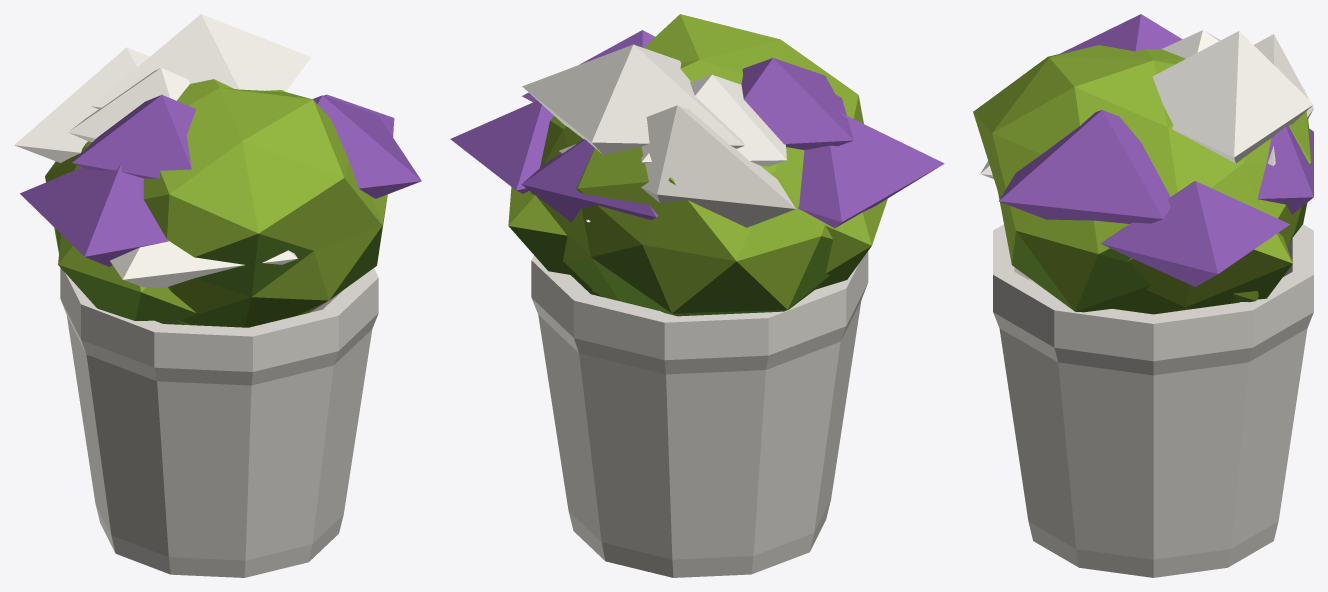
The model's file is SM_Street_Pot_RoundWhite_No3_FlowerPurple_01.gltf.
3 renders of one model, left to right at view 1: azimuth 30°, elevation 25°; view 2: azimuth 150°, elevation 25°; view 3: azimuth 270°, elevation 25°, orthographic. The views are drawn at different scales.
Parts seen in each view (by area): view 1: SM_Street_Pot_RoundWhite_No3_FlowerPurple_01; view 2: SM_Street_Pot_RoundWhite_No3_FlowerPurple_01; view 3: SM_Street_Pot_RoundWhite_No3_FlowerPurple_01.
Boxes of the visible parts, bbox=[...] form: SM_Street_Pot_RoundWhite_No3_FlowerPurple_01: bbox=[14, 14, 421, 577]; SM_Street_Pot_RoundWhite_No3_FlowerPurple_01: bbox=[450, 14, 944, 577]; SM_Street_Pot_RoundWhite_No3_FlowerPurple_01: bbox=[973, 14, 1313, 577].
Size of the model in its own units: 0.1262 by 0.1486 by 0.0909.
Materials: 1 (1 with a texture image).
